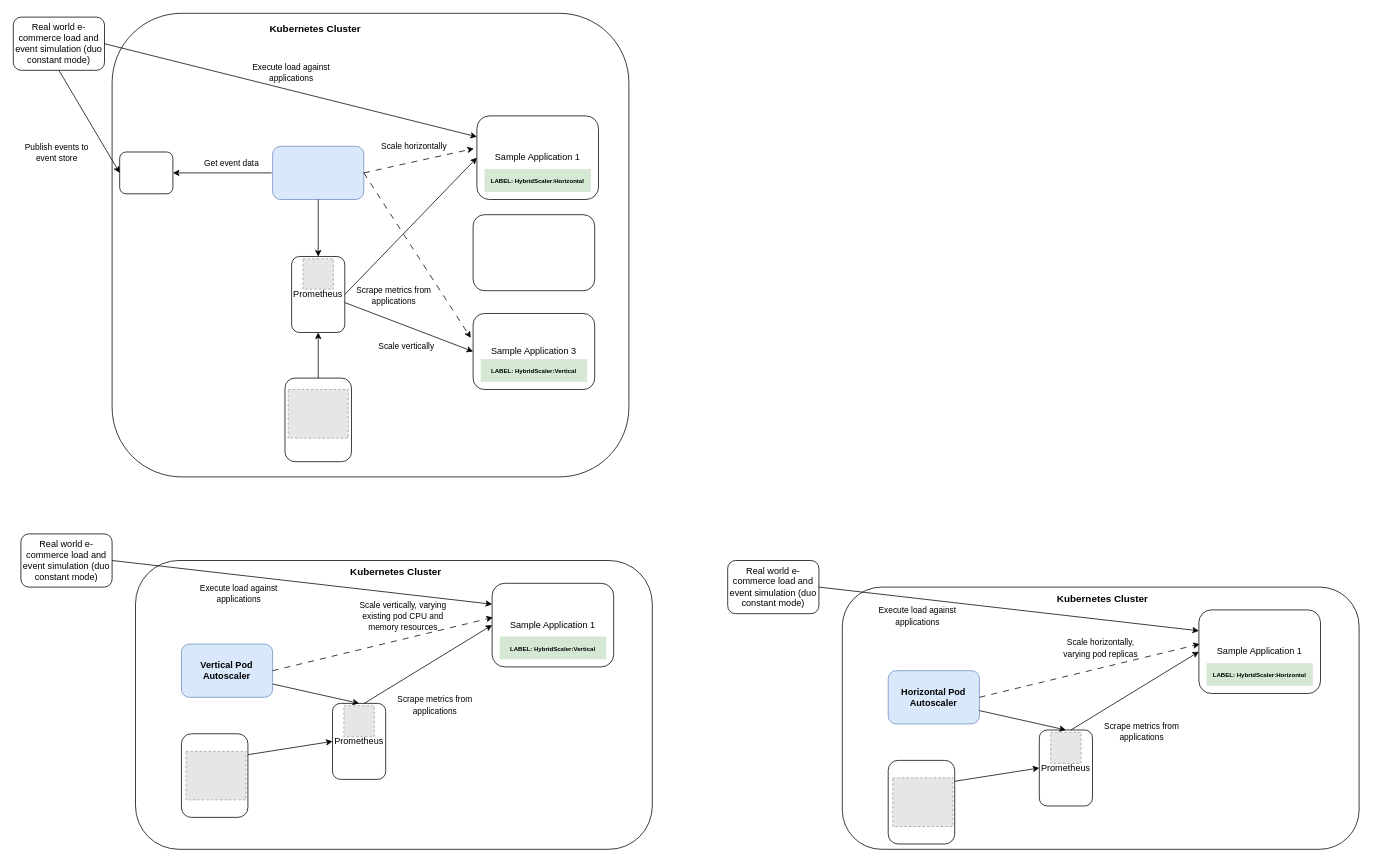
The diagram is 1373 pixels wide and 863 high, and some of its shapes have lost their labels. Grey dashed boxes stand in for pictures. Each missing label, with the centre of its shape:
Event Store: point 146,172
Hybrid Autoscaler: point 318,173
Sample Application 2: point 533,252
